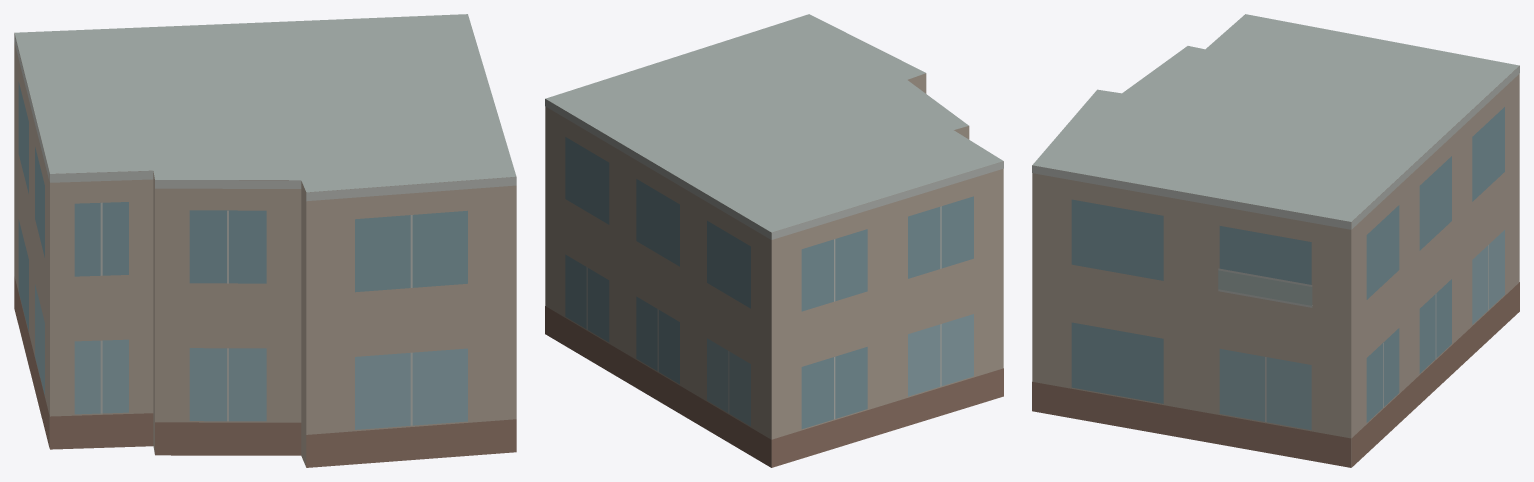
File: survey-upis-32669230.glb
3 renders of one model, left to right at view 1: azimuth 30°, elevation 25°; view 2: azimuth 150°, elevation 25°; view 3: azimuth 270°, elevation 25°, orthographic. The views are drawn at different scales.
Parts seen in each view (by area): view 1: survey-upis-32669230.tmp; view 2: survey-upis-32669230.tmp; view 3: survey-upis-32669230.tmp.
Boxes of the visible parts, box(x1,y1,x2,y2) form: survey-upis-32669230.tmp: box(14, 14, 516, 467); survey-upis-32669230.tmp: box(545, 14, 1003, 467); survey-upis-32669230.tmp: box(1032, 14, 1519, 467).
Size of the model in its own units: 13.79 by 7.6 by 13.67.
